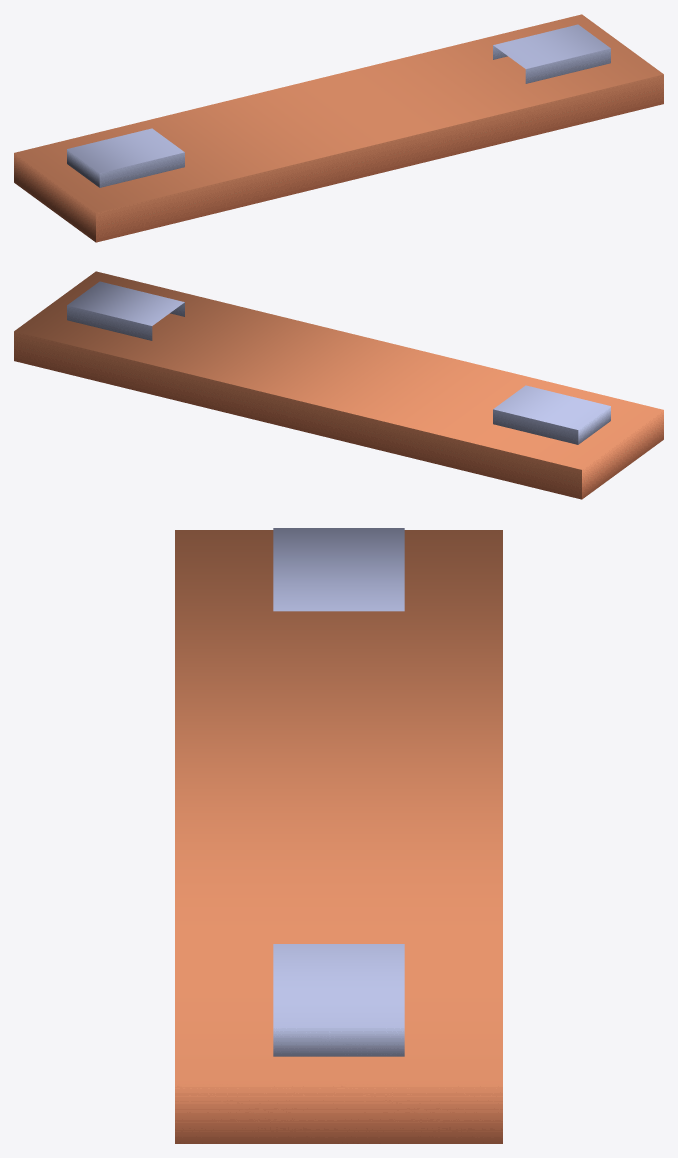
Rendered from train-kit--spline-segment.glb.
3 renders of one model, top to bottom at view 1: azimuth 30°, elevation 25°; view 2: azimuth 150°, elevation 25°; view 3: azimuth 270°, elevation 25°, orthographic. The views are drawn at different scales.
Visible parts, largest first — view 1: spline-segment; view 2: spline-segment; view 3: spline-segment.
Part boxes in pixels (bbox=[...]): spline-segment: bbox=[14, 14, 663, 242]; spline-segment: bbox=[14, 271, 663, 499]; spline-segment: bbox=[175, 528, 502, 1143].
Size of the model in its own units: 1 by 0.075 by 0.25.
Materials: 1 (1 with a texture image).
